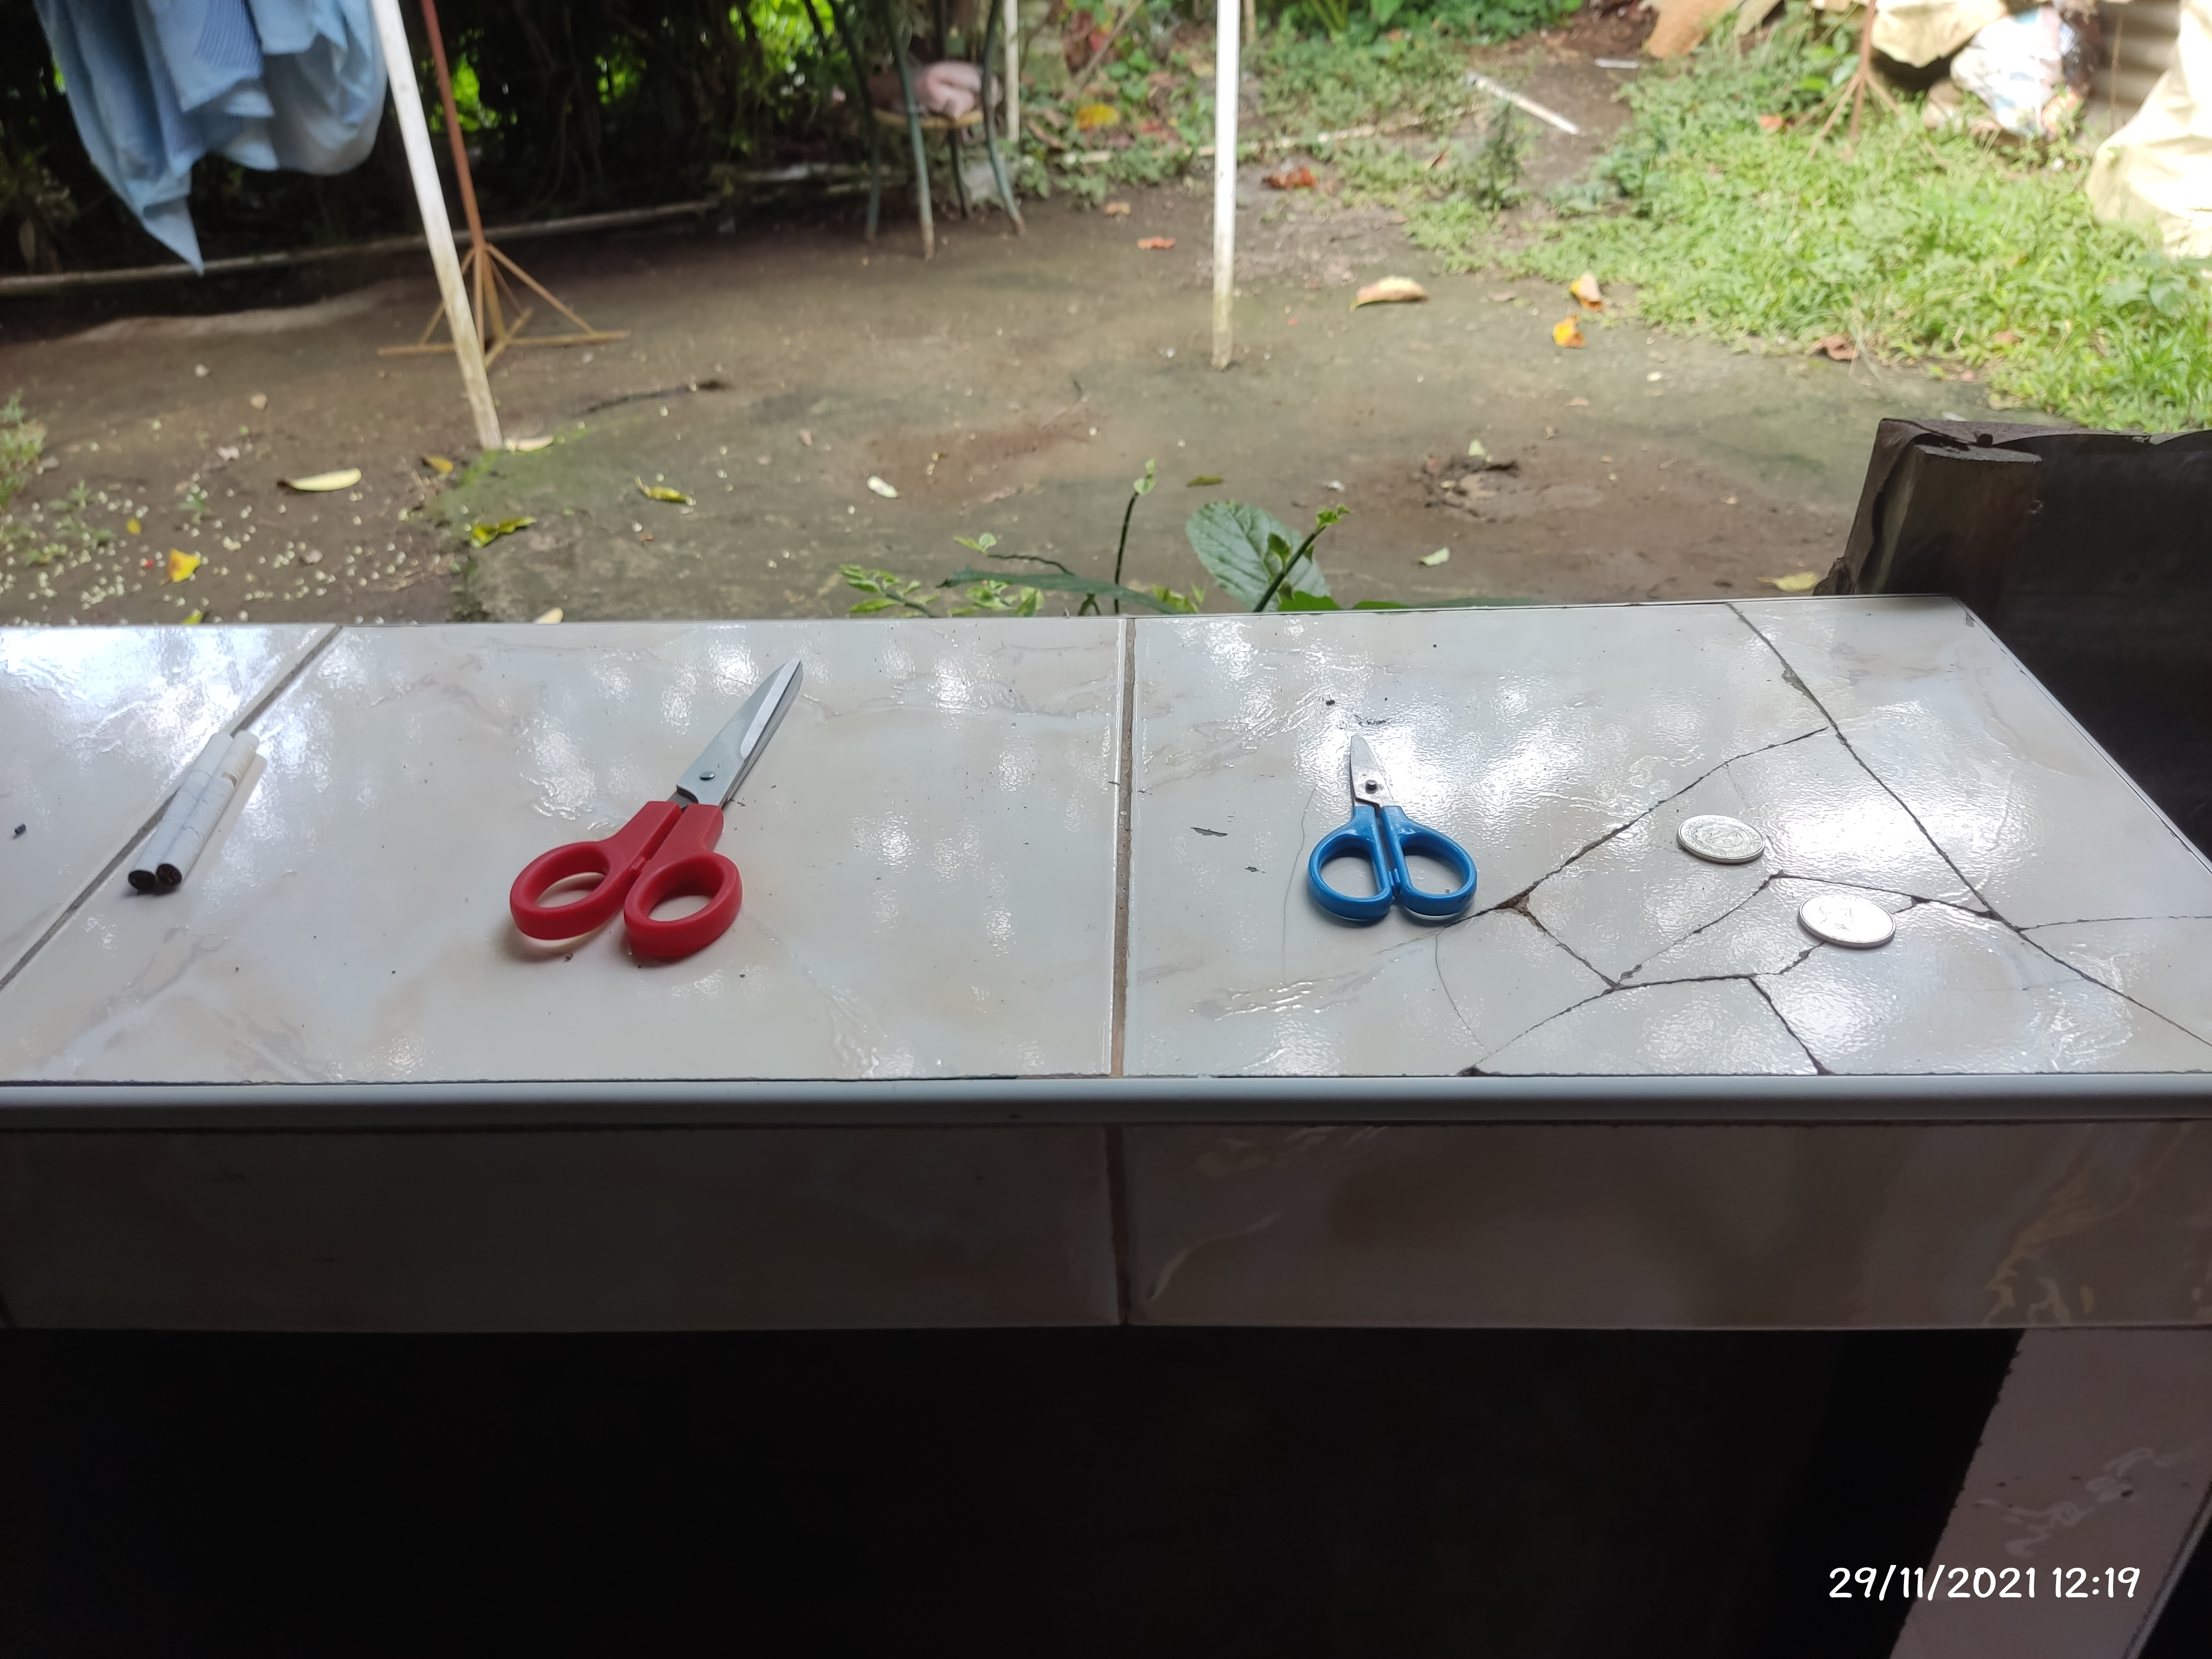scissor: (512, 640, 810, 962), (1298, 728, 1474, 934)
